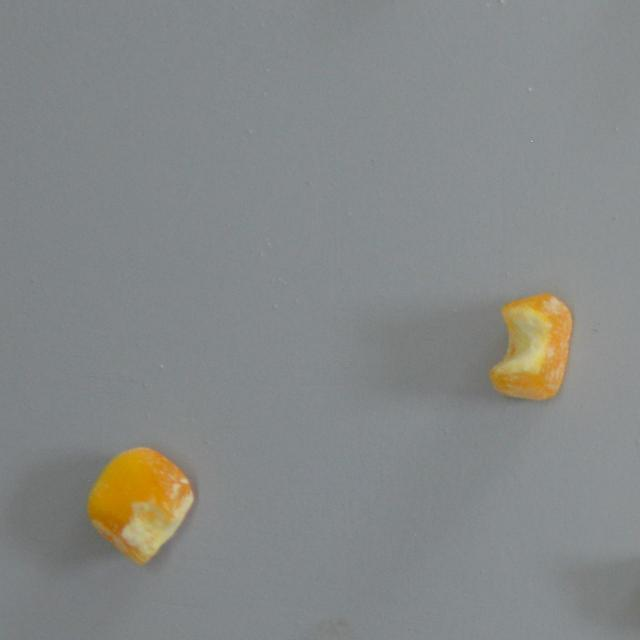dañado: (80, 442, 199, 570)
pelicula: (482, 284, 580, 408)
